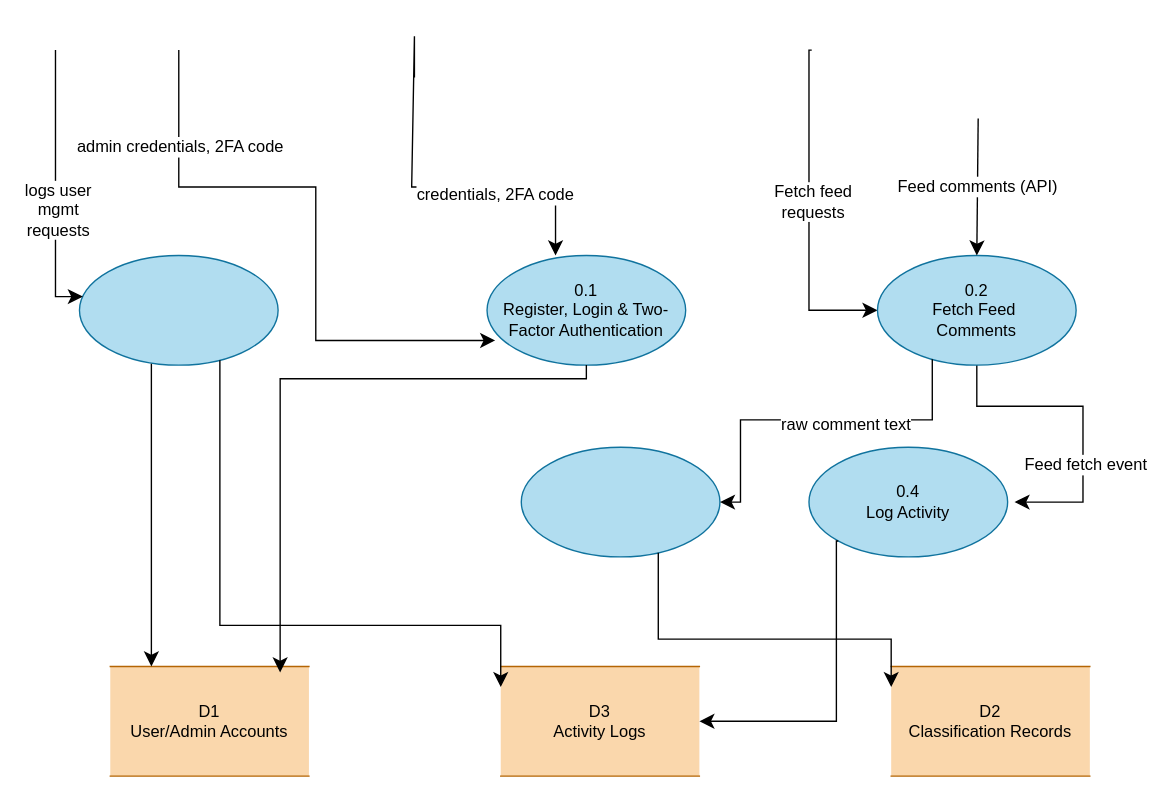
Image size: 1170x800. Some labels were removed from this diagram. Here are the shapes that lost their labels. From the top down, the box of each, then its label:
(78, 254, 278, 365): 0.5 Admin: Review logs & Manage Users
(520, 446, 720, 557): 0.3 Classify Comments
